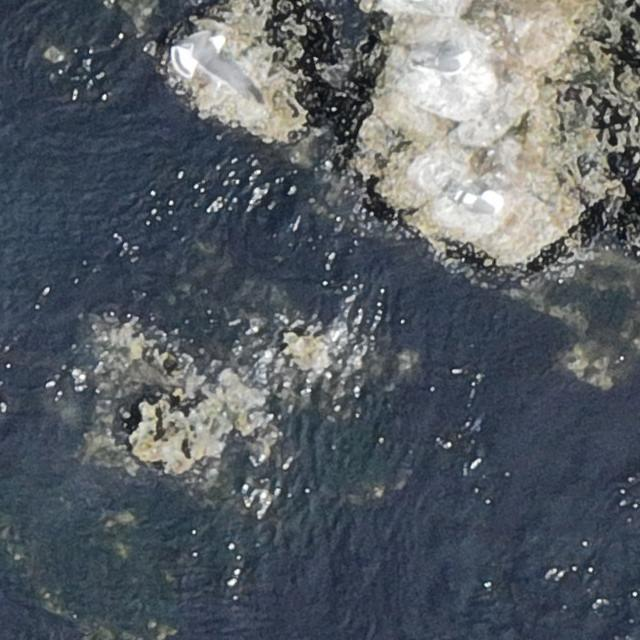F: (168, 31, 248, 92)
umineko: (408, 52, 473, 73), (457, 187, 502, 215)
